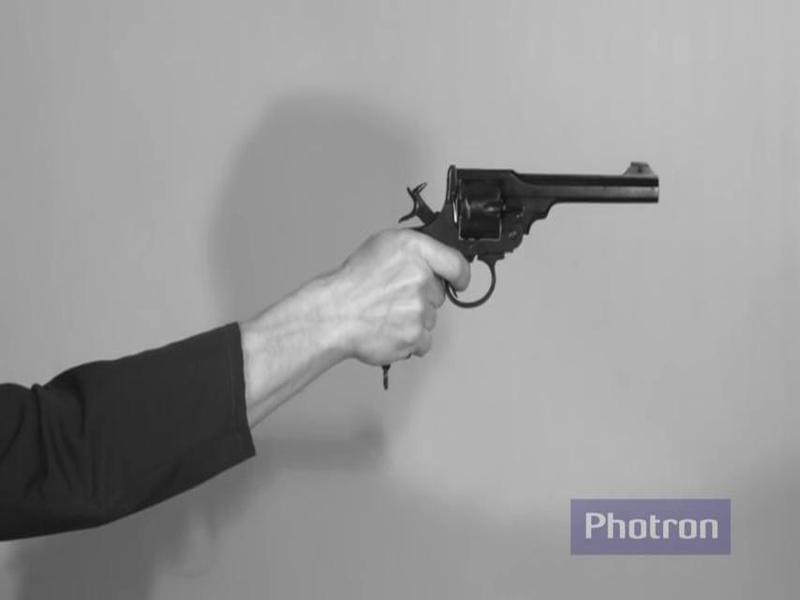Revolver: (388, 137, 689, 315)
